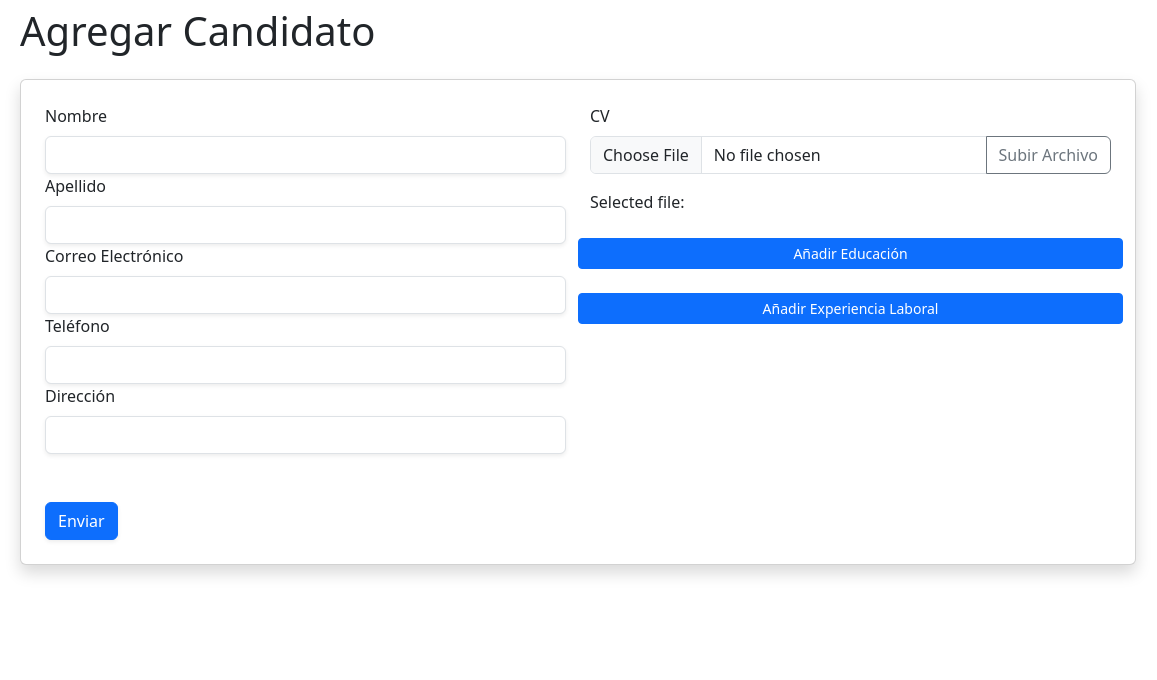
Scenario: AddCandidateForm Component › Manejo de Secciones Dinámicas - Experiencia Laboral › debe_anadir_nueva_experiencia_al_hacer_clic
Click the button "Añadir Experiencia Laboral": (850, 308) [578,293,1123,324]
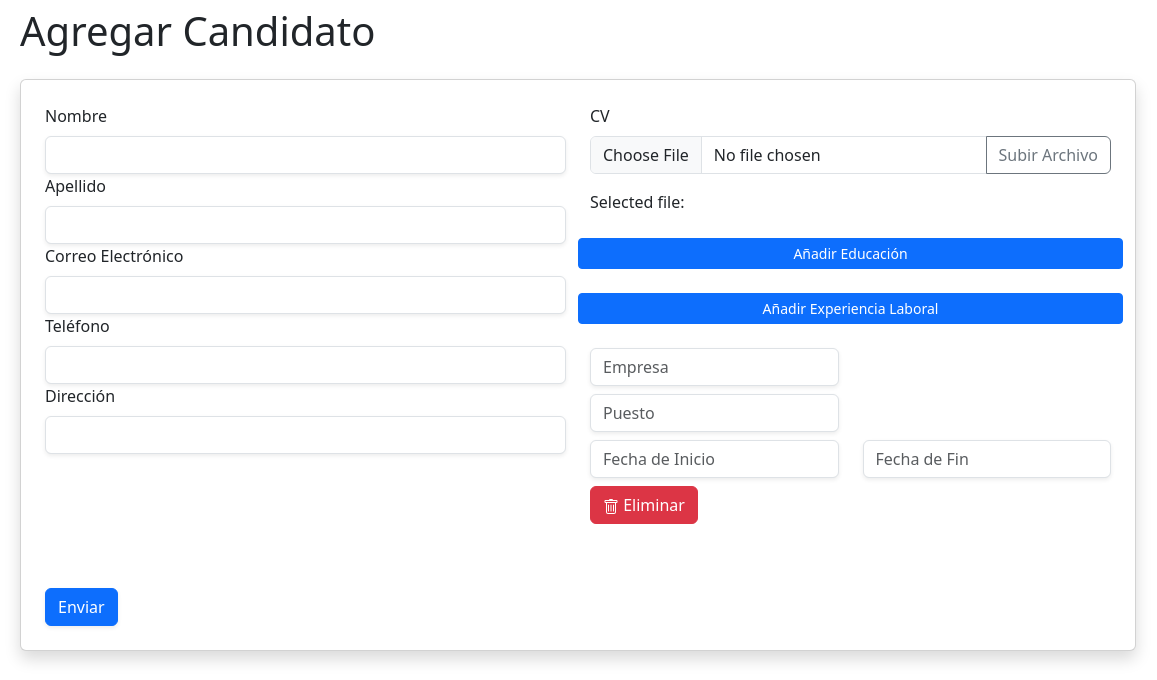
Expected: the field with placeholder "Empresa" is shown, [590,348,838,386]
Expected: the field with placeholder "Puesto" is shown, [590,394,838,432]
